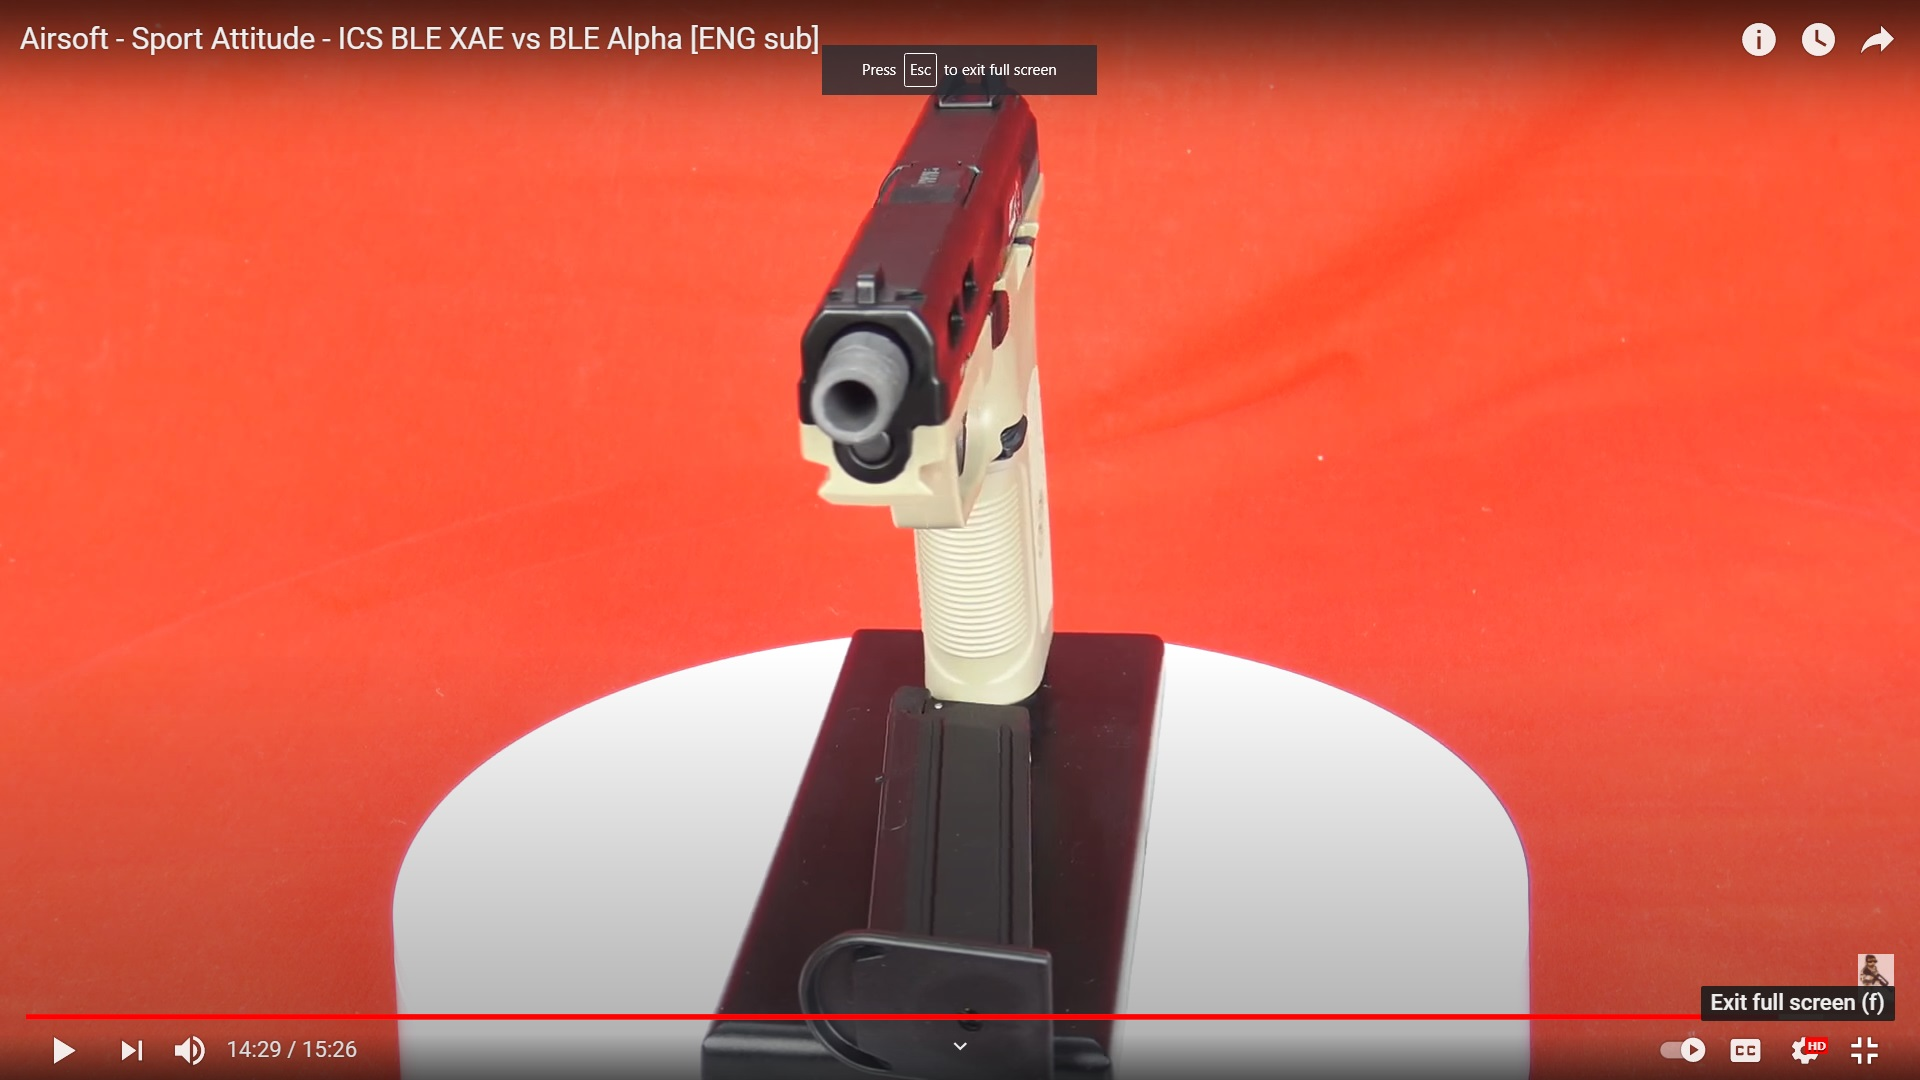asg_ics_ble_xae: (796, 95, 1113, 696)
